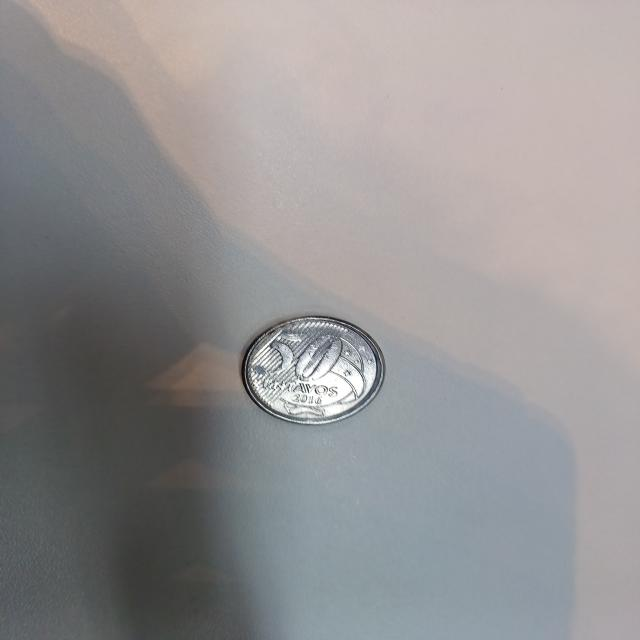50 cents: (240, 313, 388, 427)
